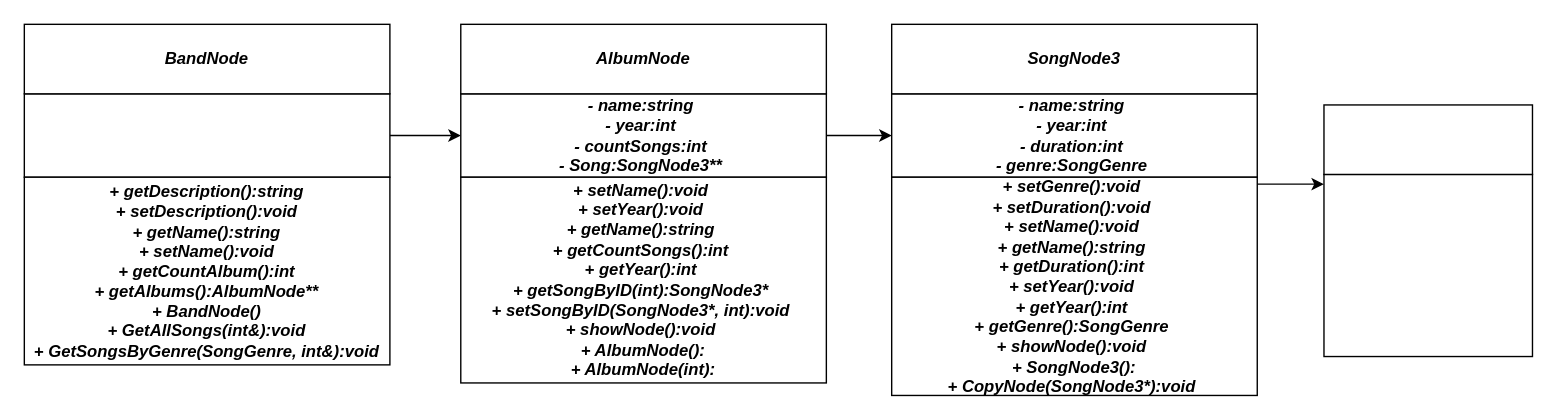
This 1557x420 diagram has some shape labels left out. Each missing label, with the centre of its shape:
"- name:string - description:string - album:AlbumNode** - countAlbum:int" belongs at pixel 206 134.
"<<Перечисление>> SongGenre" belongs at pixel 1427 139.
"Rap Hip_Hop Rock EDM Funk Jazz" belongs at pixel 1427 265.
